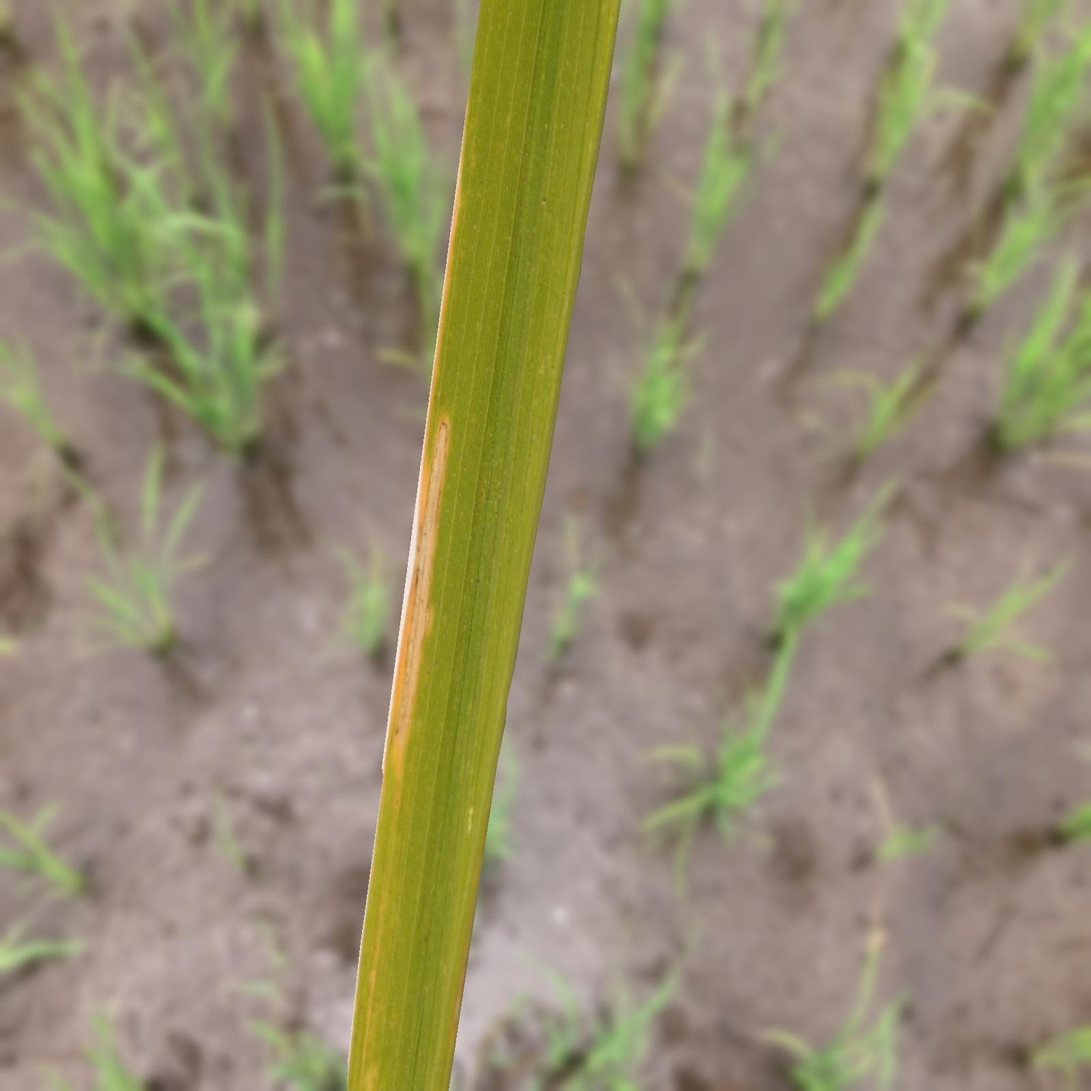BLS: (391, 156, 461, 810)
LEAF: (347, 0, 621, 1090)
